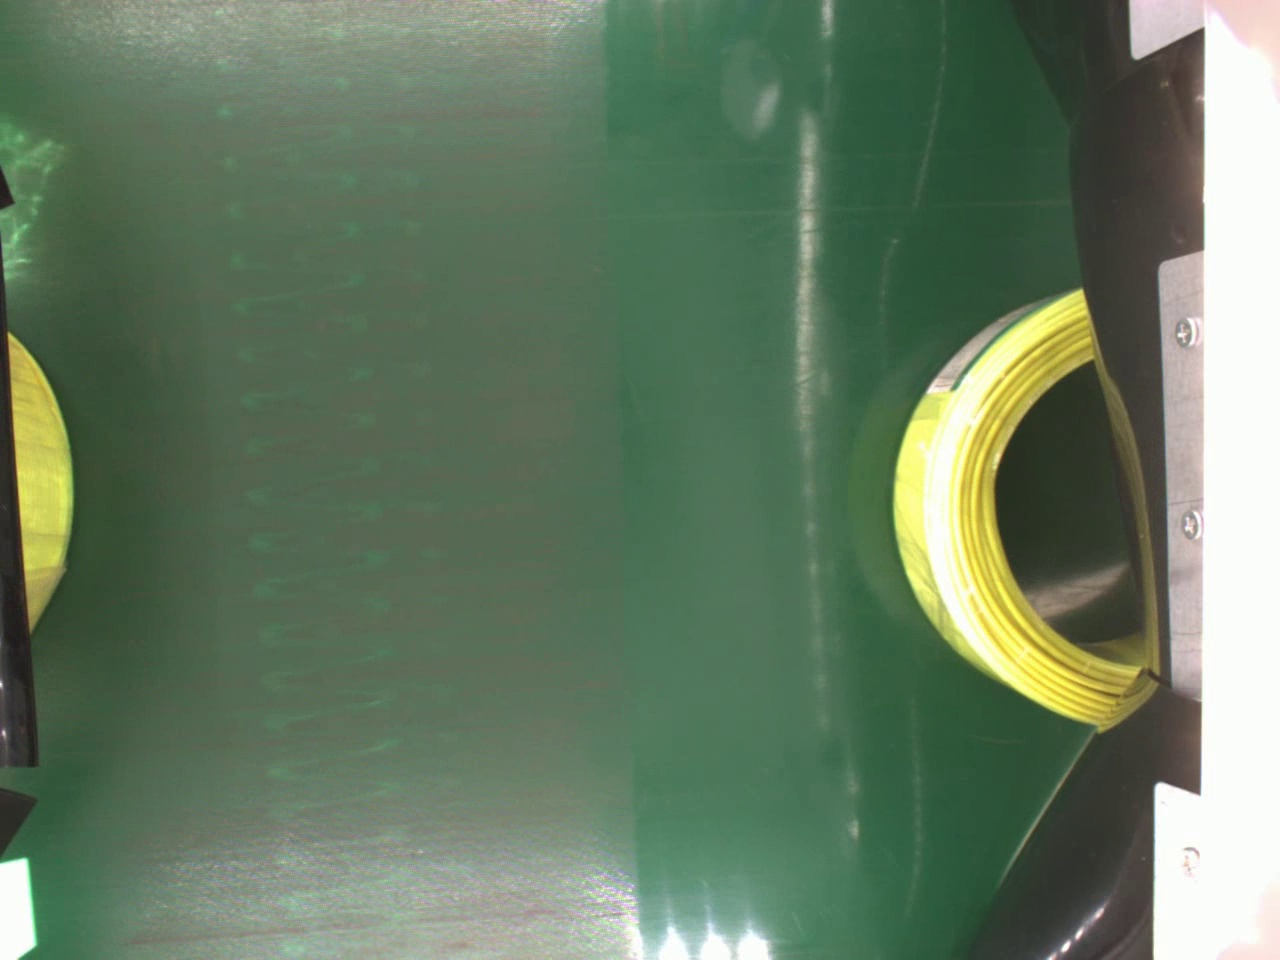yellow: (893, 270, 1148, 726)
